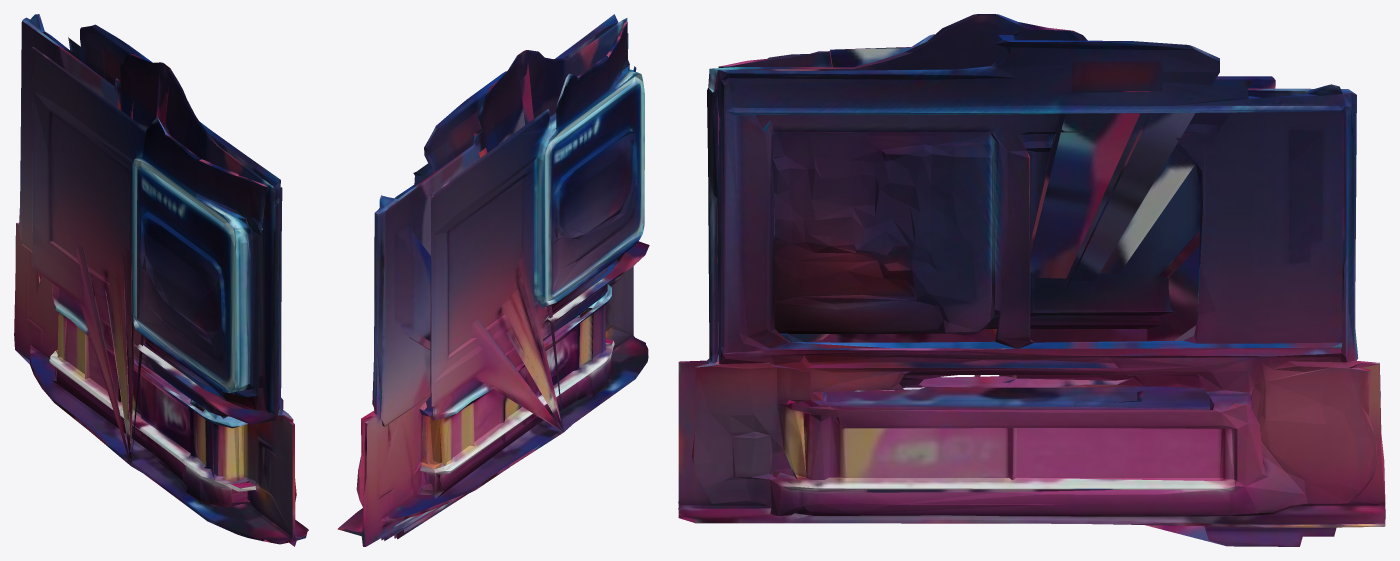
File: vr_bld.glb
3 renders of one model, left to right at view 1: azimuth 30°, elevation 25°; view 2: azimuth 150°, elevation 25°; view 3: azimuth 270°, elevation 25°, orthographic. The views are drawn at different scales.
Parts seen in each view (by area): view 1: textured_mesh.obj; view 2: textured_mesh.obj; view 3: textured_mesh.obj.
Part boxes in pixels (x1,y1,x2,y2): textured_mesh.obj: (14, 14, 308, 546); textured_mesh.obj: (337, 14, 649, 546); textured_mesh.obj: (678, 14, 1385, 546).
Bounding box in the file's own units: 1.5 × 8 × 9.73.
Materials: 1 (1 with a texture image).
